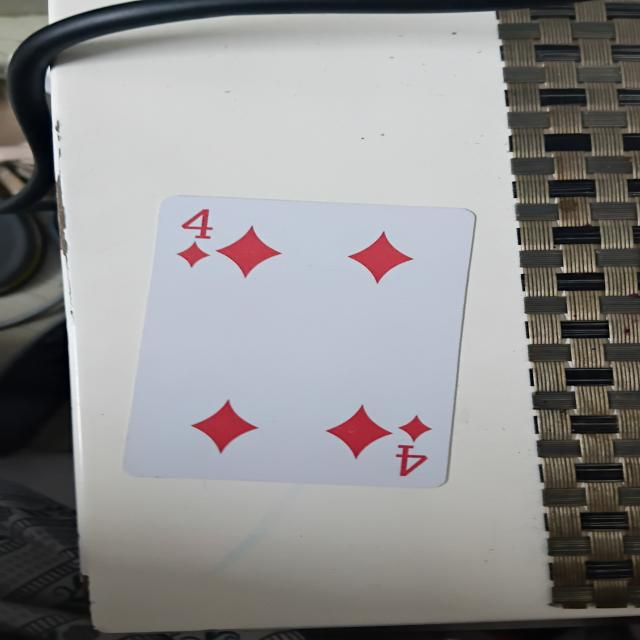4D: (118, 190, 487, 495)
